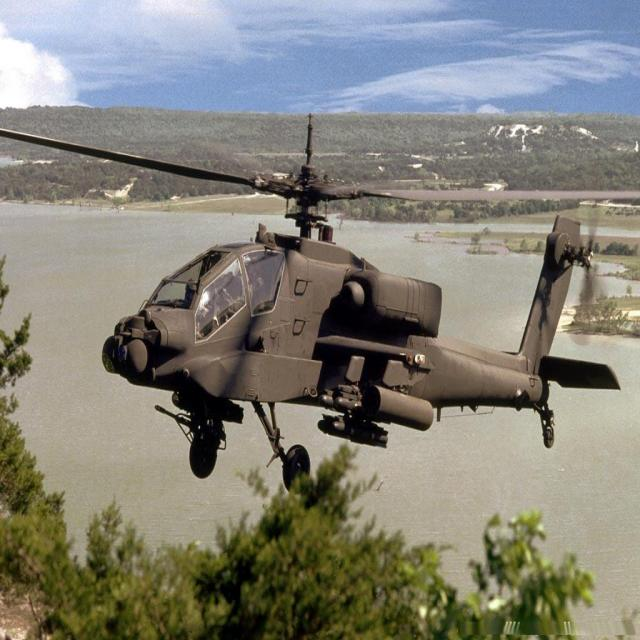MIL_HELO: (0, 106, 635, 481)
